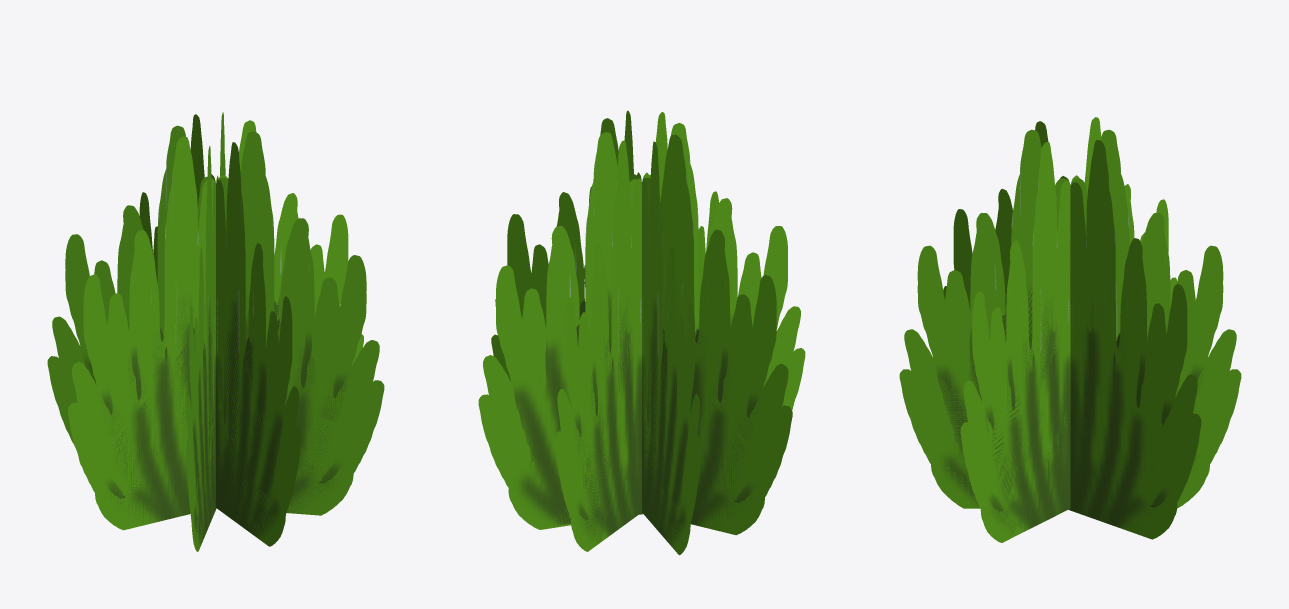
The model's file is Bush.fbx.
The picture shows the model from 3 angles, left to right: view 1: azimuth 30°, elevation 25°; view 2: azimuth 150°, elevation 25°; view 3: azimuth 270°, elevation 25°; orthographic projection.
Parts seen in each view (by area): view 1: pPlane10; view 2: pPlane10; view 3: pPlane10.
Part boxes in pixels (x1,y1,x2,y2): pPlane10: (47,112,384,551); pPlane10: (478,110,805,555); pPlane10: (899,117,1241,542).
Size of the model in its own units: 5.14 by 5.7 by 5.14.
Materials: 1 (1 with a texture image).
